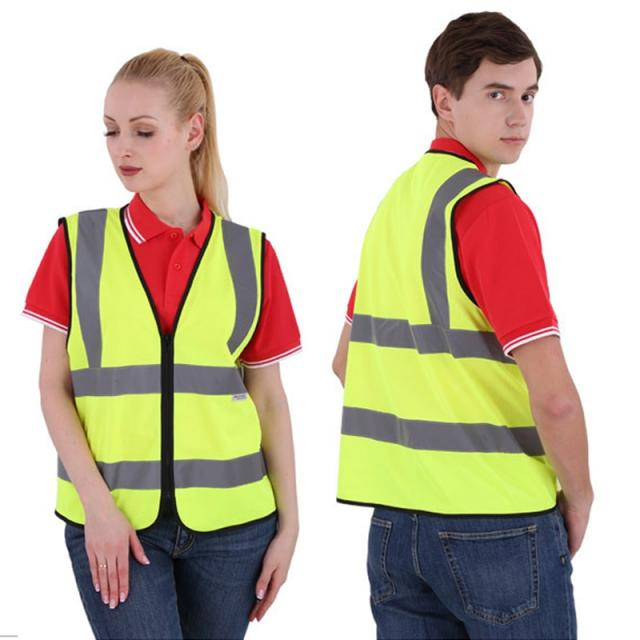Reflective-Jacket: (330, 155, 567, 518), (47, 209, 278, 529)
